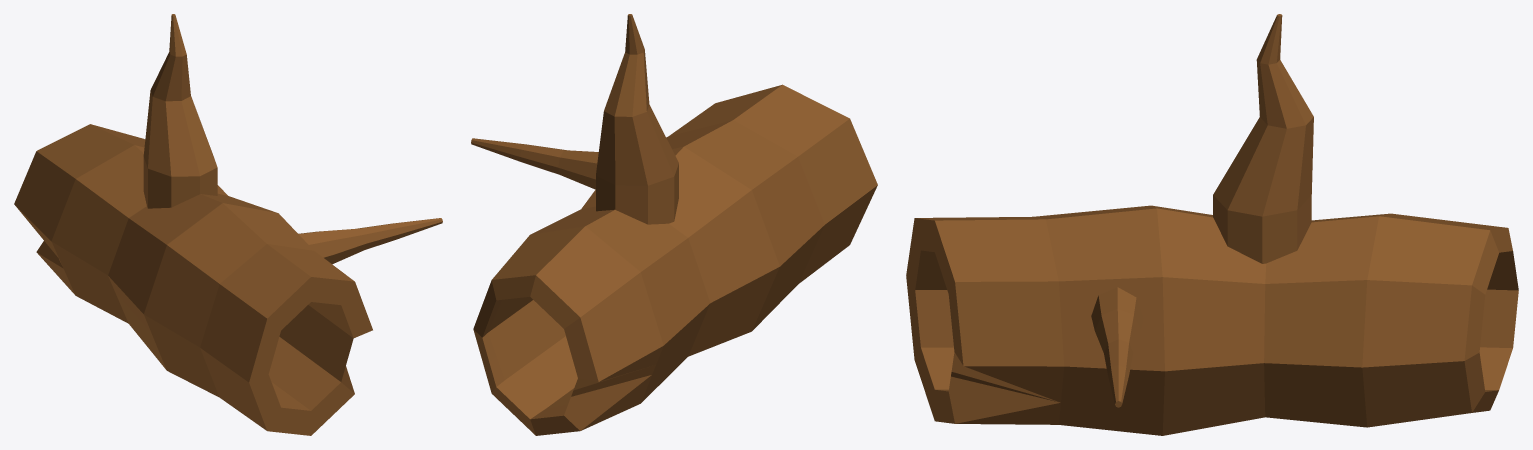
The model's file is WoodenLog.fbx.
3 views of the same model, side by side, from view 1: azimuth 30°, elevation 25°; view 2: azimuth 150°, elevation 25°; view 3: azimuth 270°, elevation 25° (orthographic). The views are drawn at different scales.
Visible parts, largest first — view 1: Circle; view 2: Circle; view 3: Circle.
Part boxes in pixels (bbox=[...]): Circle: bbox=[14, 14, 442, 435]; Circle: bbox=[471, 14, 877, 435]; Circle: bbox=[906, 14, 1518, 435].
Bounding box in the file's own units: 549 × 607 × 808.
